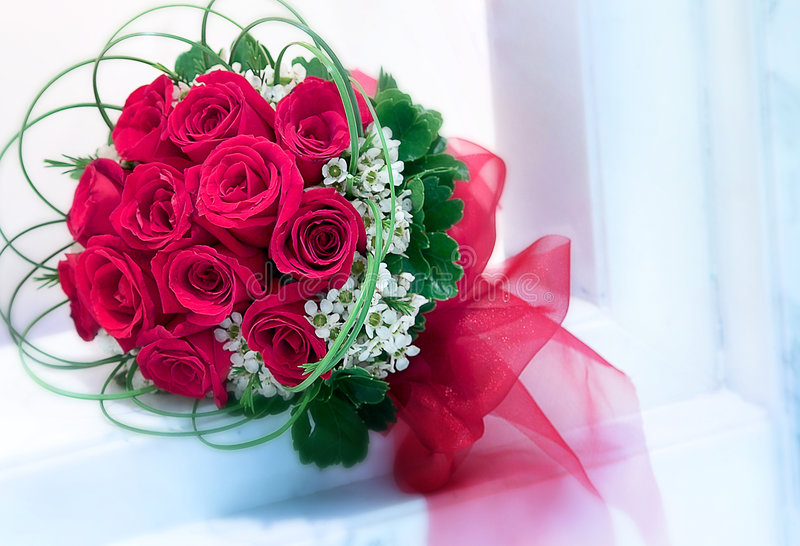RedRose: (191, 130, 309, 257), (57, 230, 168, 353), (100, 156, 217, 264), (167, 55, 279, 157), (151, 241, 264, 338), (113, 320, 248, 401), (239, 290, 335, 391)
